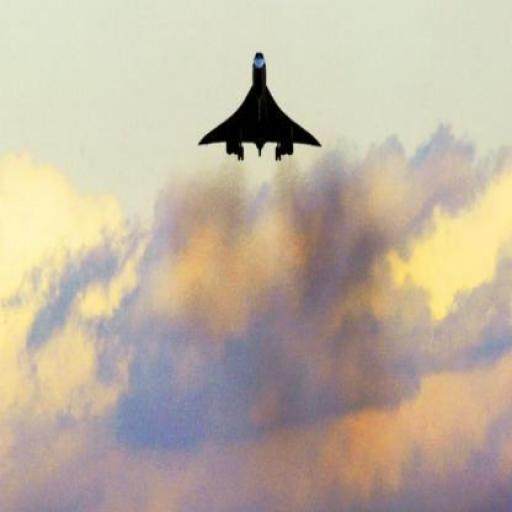aircraft: (197, 49, 324, 163)
